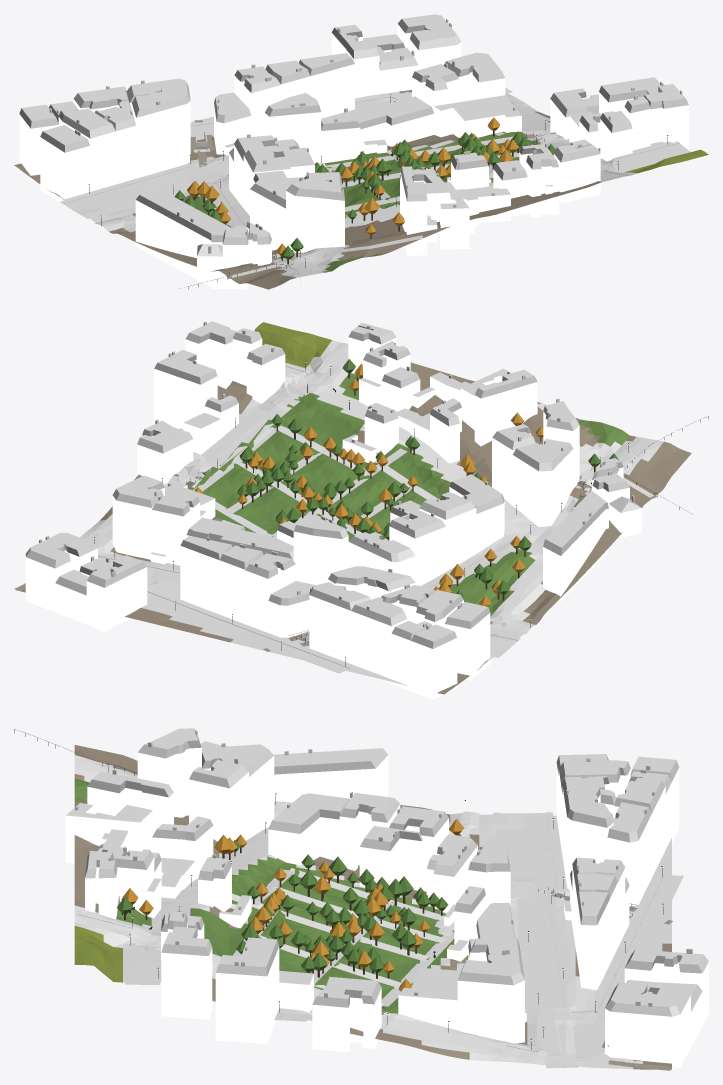
Rendered from zone_D6.glb.
3 renders of one model, top to bottom at view 1: azimuth 30°, elevation 25°; view 2: azimuth 150°, elevation 25°; view 3: azimuth 270°, elevation 25°, orthographic. The views are drawn at different scales.
Visible parts, largest first — view 1: zone_D6_batiments, zone_D6_terrain, zone_D6_sol_NOCOL, zone_D6_decor_NOCOL; view 2: zone_D6_batiments, zone_D6_terrain, zone_D6_sol_NOCOL, zone_D6_decor_NOCOL; view 3: zone_D6_batiments, zone_D6_terrain, zone_D6_sol_NOCOL, zone_D6_decor_NOCOL.
Boxes of the visible parts, x1,y1,x2,y2 form: zone_D6_batiments: (19,14,688,289); zone_D6_terrain: (14,90,708,289); zone_D6_sol_NOCOL: (60,87,690,278); zone_D6_decor_NOCOL: (88,94,668,289); zone_D6_batiments: (25,321,641,699); zone_D6_terrain: (16,322,691,694); zone_D6_sol_NOCOL: (14,343,656,673); zone_D6_decor_NOCOL: (94,359,708,665); zone_D6_batiments: (65,728,708,1069); zone_D6_terrain: (74,745,671,1069); zone_D6_sol_NOCOL: (76,763,683,1070); zone_D6_decor_NOCOL: (14,729,663,1049).
Size of the model in its own units: 218 by 50.87 by 216.
